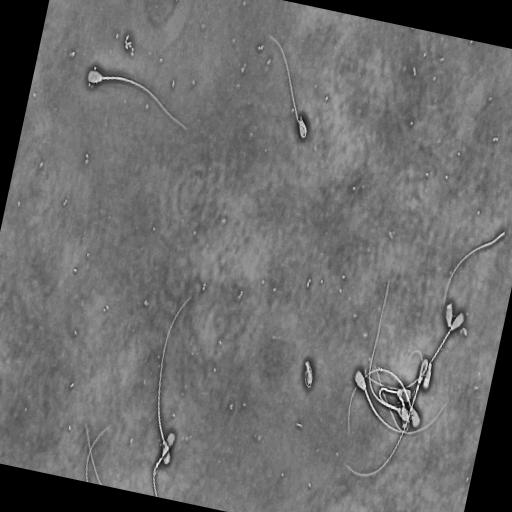coiled-tail: (304, 368, 312, 388), (305, 361, 309, 368)
loose-head: (444, 300, 453, 329)
loose-tail: (443, 227, 507, 310), (84, 422, 112, 482), (84, 422, 103, 485)
normal: (346, 358, 428, 476), (80, 61, 196, 139), (362, 306, 467, 391), (347, 363, 450, 442), (152, 290, 197, 469), (261, 25, 310, 146), (347, 369, 420, 432), (149, 428, 177, 496), (301, 355, 316, 391)
